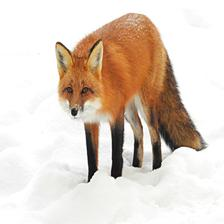fox: (44, 4, 216, 178)
